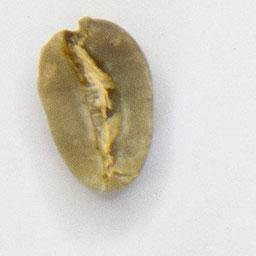longberry: (32, 13, 160, 199)
